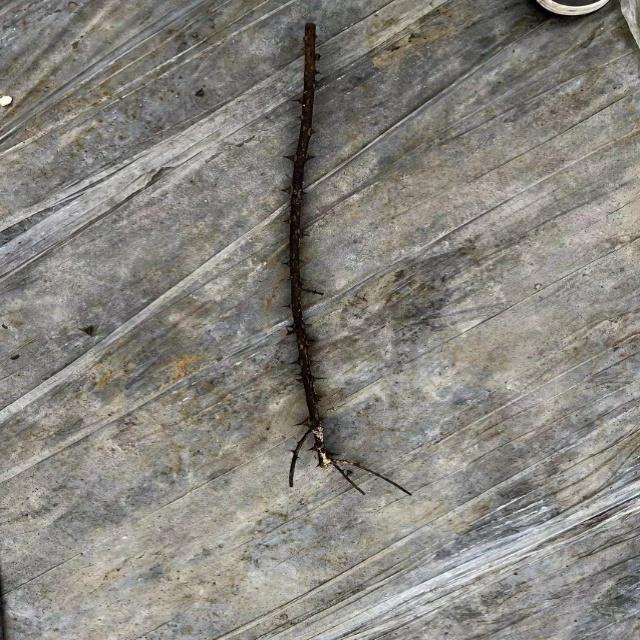branch: (289, 23, 324, 438)
